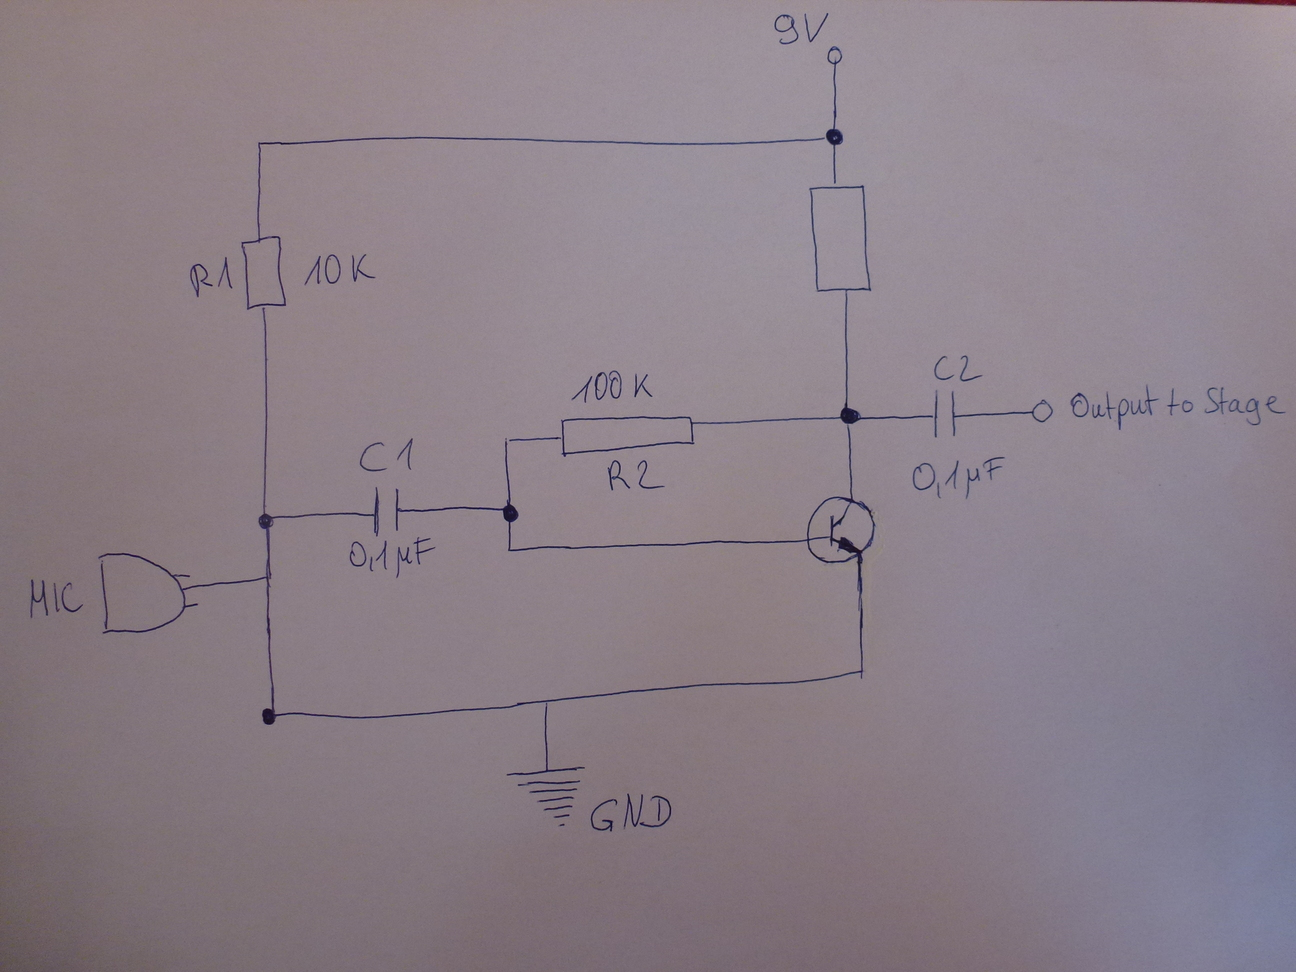capacitor.unpolarized: (363, 482, 406, 540), (926, 387, 964, 441)
gnd: (505, 762, 587, 828)
junction: (834, 402, 865, 431), (254, 507, 285, 535), (257, 700, 284, 730), (820, 125, 848, 149), (499, 497, 521, 526), (499, 432, 516, 450), (258, 567, 275, 585), (537, 693, 554, 710), (253, 137, 267, 151), (854, 666, 867, 681), (504, 543, 517, 557)
microphone: (93, 549, 203, 638)
resistor: (804, 183, 874, 295), (559, 414, 696, 458), (238, 233, 289, 312)
terminal: (1025, 396, 1055, 425), (824, 44, 845, 69)
text: (1068, 381, 1288, 432), (908, 454, 1007, 501), (588, 790, 676, 834), (345, 536, 433, 578), (568, 369, 658, 405), (299, 249, 379, 287), (26, 573, 83, 622), (602, 456, 665, 493), (770, 9, 832, 45), (187, 255, 236, 299), (356, 436, 415, 472), (931, 353, 981, 383)
transistor: (802, 492, 881, 566)
